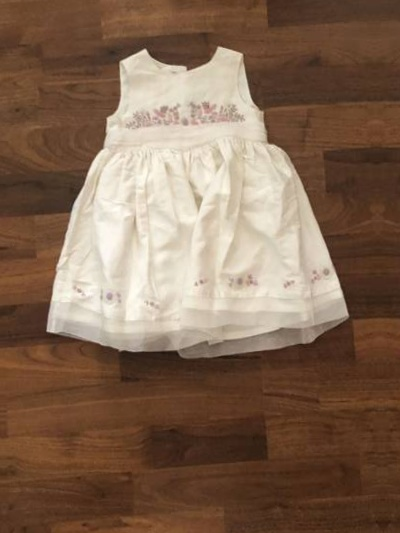Dress: (34, 34, 349, 408)
